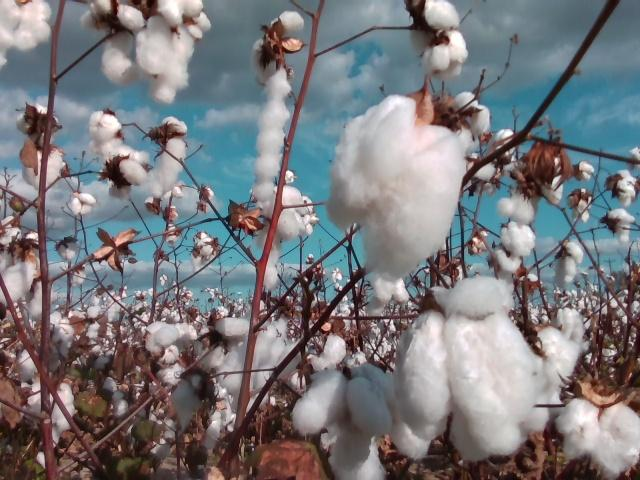cotton_ready: (396, 278, 555, 459), (326, 96, 466, 280), (292, 362, 397, 480), (251, 10, 302, 201), (137, 0, 209, 105), (555, 398, 640, 479), (526, 327, 583, 433), (218, 319, 292, 395), (81, 0, 145, 84), (256, 187, 301, 287), (498, 158, 564, 224), (412, 0, 466, 79), (27, 384, 78, 467), (0, 0, 55, 68), (19, 309, 70, 378), (150, 115, 188, 194), (195, 318, 249, 367), (171, 372, 211, 434), (467, 128, 514, 179), (450, 92, 491, 146), (106, 151, 149, 198), (0, 255, 40, 305), (367, 277, 411, 318), (23, 147, 64, 190), (146, 322, 196, 354), (17, 105, 59, 142), (0, 214, 24, 275), (555, 239, 584, 285), (89, 113, 119, 154), (500, 223, 535, 256), (314, 335, 347, 370)
